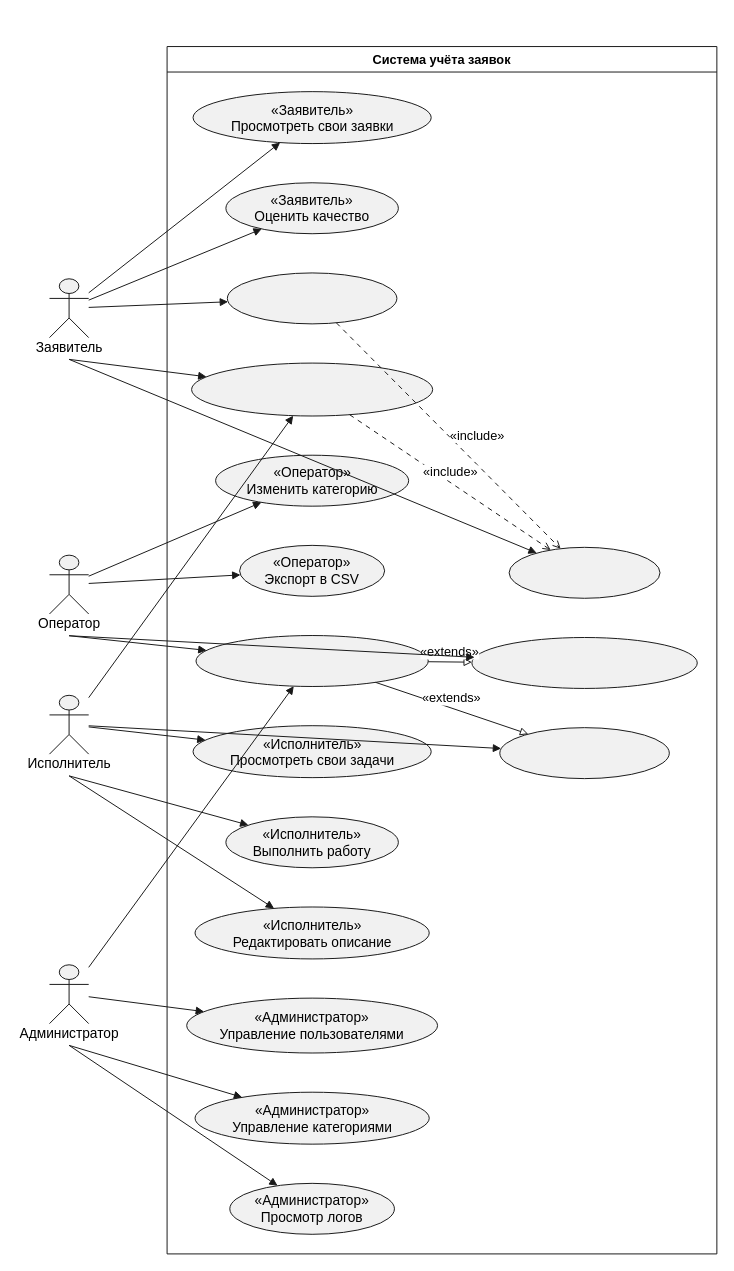
Some shapes in this 734 by 1271 pixel diagram are drawn without their labels. The centre of each missing label's shape, as x and y in pixels:
«Заявитель/Исполнитель» Прокомментировать: the point at 312,389
«Заявитель» Вернуть в работу: the point at 311,298
«Заявитель» Создать заявку: the point at 584,572
«Исполнитель» Принять в работу: the point at 584,753
«Оператор» Назначить исполнителя: the point at 584,662
«Оператор» Просмотреть все заявки: the point at 311,660
